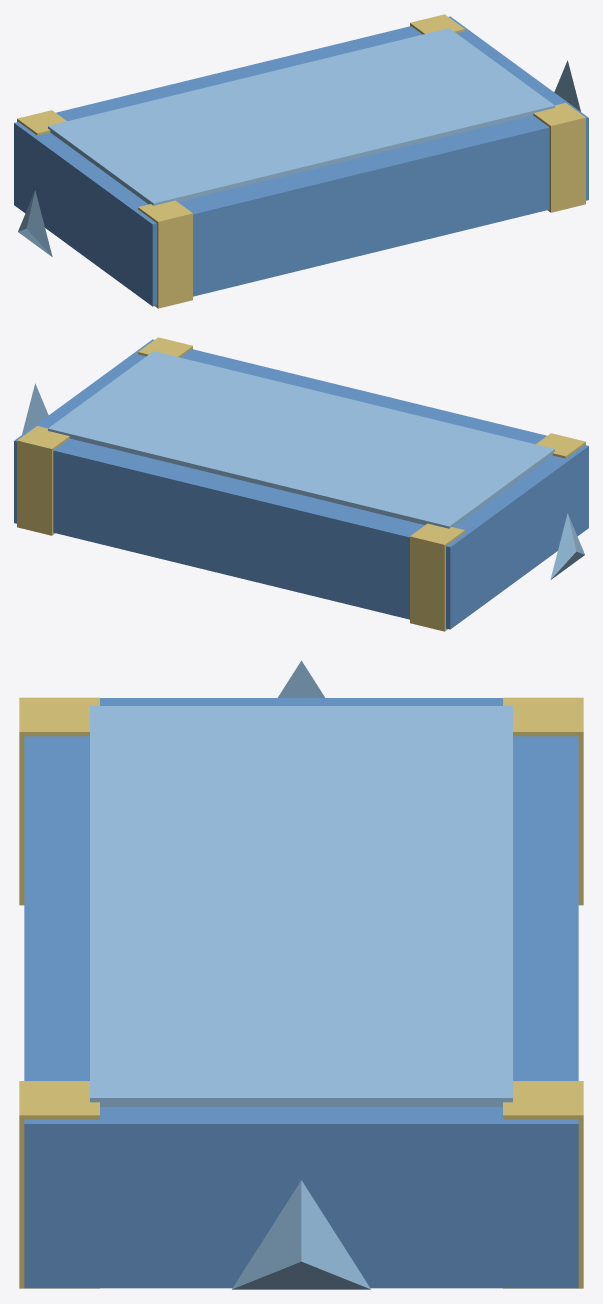
Rendered from Gimmick_MovingPlatform.fbx.
The picture shows the model from 3 angles, top to bottom: view 1: azimuth 30°, elevation 25°; view 2: azimuth 150°, elevation 25°; view 3: azimuth 270°, elevation 25°; orthographic projection. The views are drawn at different scales.
Parts seen in each view (by area): view 1: Gimmick_MovingPlatform_Deck, Gimmick_MovingPlatform_TopLine, Gimmick_MovingPlatform_Corner_1_-1, Gimmick_MovingPlatform_Corner_-1_-1, Gimmick_MovingPlatform, Gimmick_MovingPlatform_Arrow_-1; view 2: Gimmick_MovingPlatform_Deck, Gimmick_MovingPlatform_TopLine, Gimmick_MovingPlatform, Gimmick_MovingPlatform_Arrow_-1, Gimmick_MovingPlatform_Corner_-1_-1, Gimmick_MovingPlatform_Corner_1_-1; view 3: Gimmick_MovingPlatform_TopLine, Gimmick_MovingPlatform_Deck, Gimmick_MovingPlatform, Gimmick_MovingPlatform_Corner_1_-1, Gimmick_MovingPlatform_Corner_-1_-1, Gimmick_MovingPlatform_Arrow_-1.
Part boxes in pixels (box(x1,y1,x2,y2)): Gimmick_MovingPlatform_Deck: box(14, 16, 588, 306); Gimmick_MovingPlatform_TopLine: box(48, 28, 554, 205); Gimmick_MovingPlatform_Corner_1_-1: box(533, 103, 585, 212); Gimmick_MovingPlatform_Corner_-1_-1: box(138, 200, 192, 308); Gimmick_MovingPlatform: box(17, 14, 580, 135); Gimmick_MovingPlatform_Arrow_-1: box(18, 190, 52, 256); Gimmick_MovingPlatform_Deck: box(14, 339, 588, 629); Gimmick_MovingPlatform_TopLine: box(48, 351, 554, 528); Gimmick_MovingPlatform: box(17, 383, 464, 631); Gimmick_MovingPlatform_Arrow_-1: box(550, 513, 584, 579); Gimmick_MovingPlatform_Corner_-1_-1: box(536, 433, 585, 458); Gimmick_MovingPlatform_Corner_1_-1: box(138, 337, 192, 357); Gimmick_MovingPlatform_TopLine: box(90, 706, 512, 1106); Gimmick_MovingPlatform_Deck: box(24, 698, 578, 1288); Gimmick_MovingPlatform: box(232, 697, 583, 1289); Gimmick_MovingPlatform_Corner_1_-1: box(19, 1081, 99, 1288); Gimmick_MovingPlatform_Corner_-1_-1: box(19, 697, 99, 905); Gimmick_MovingPlatform_Arrow_-1: box(278, 660, 324, 697).
Size of the model in its own units: 1.26 by 0.195 by 0.56.
